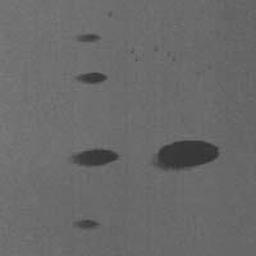Oil spot: (148, 138, 221, 173), (65, 146, 122, 169), (73, 70, 109, 87), (70, 32, 104, 45), (72, 218, 100, 232), (131, 46, 140, 64), (166, 51, 178, 63), (105, 10, 114, 19), (152, 44, 160, 54)
